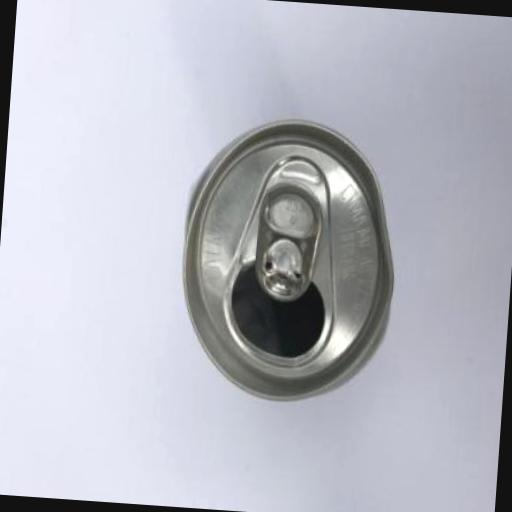metal: (171, 110, 404, 410)
